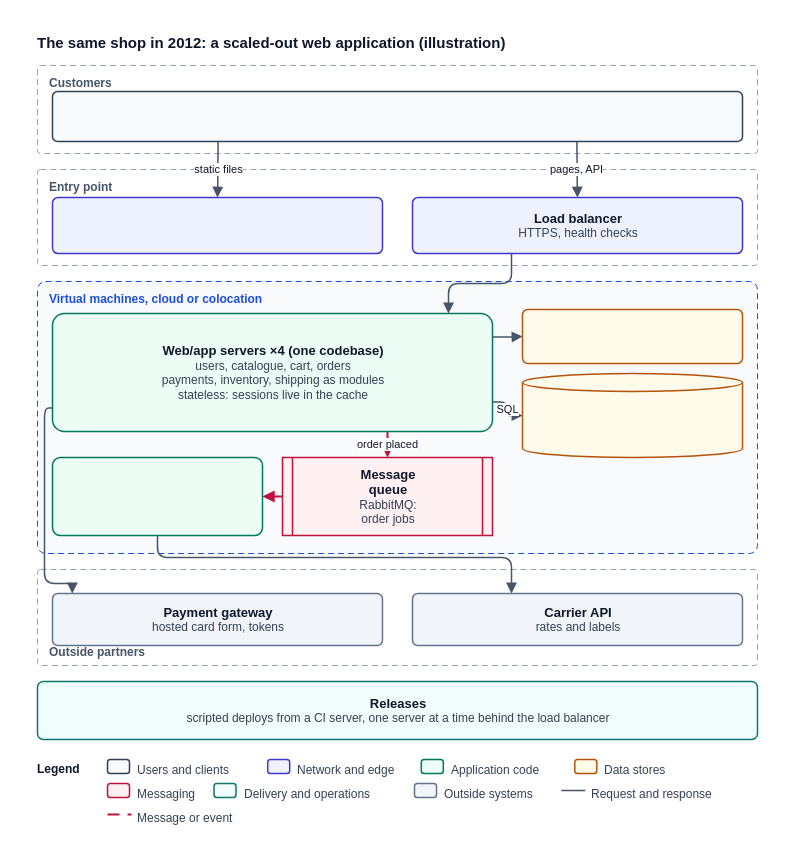
Image size: 794x856. Some labels were removed from this diagram. The centre of each missing label's shape, as x and y in pixels:
Background workers emails, labels, stock sync: point 157,496
Browsers desktop web, early smartphones: point 397,116
CDN images, CSS, JavaScript: point 217,225
Memcached or Redis sessions, page cache: point 632,336
MySQL primary + read replicas: point 632,415
